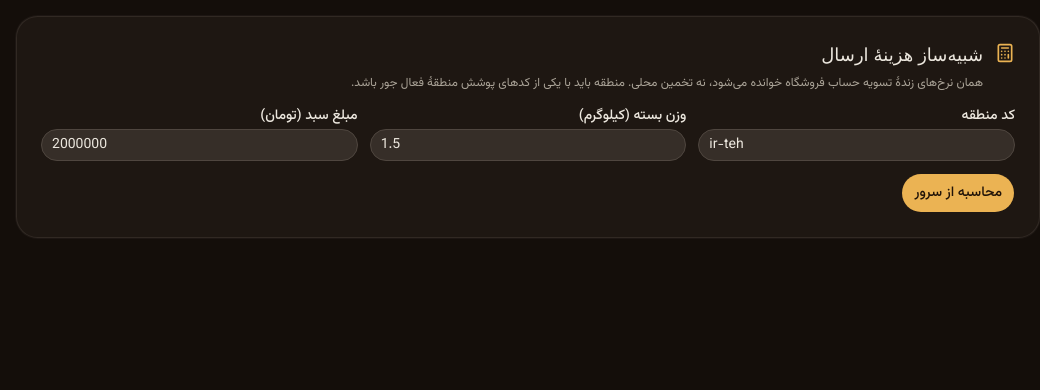
Test: ShippingQuoteSimulator › submits region, weight, and subtotal to the available-methods hook
Replace the text in the number field labelled "وزن بسته (کیلوگرم)" with "2" at {"x": 528, "y": 145}, box 370,129 -> 686,161
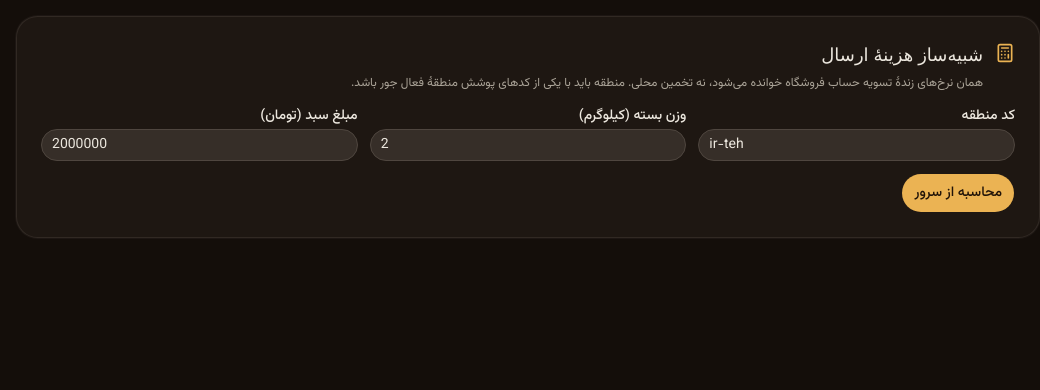
Replace the text in the number field labelled "مبلغ سبد (تومان)" with "3000000" at {"x": 199, "y": 145}, box 41,129 -> 358,161
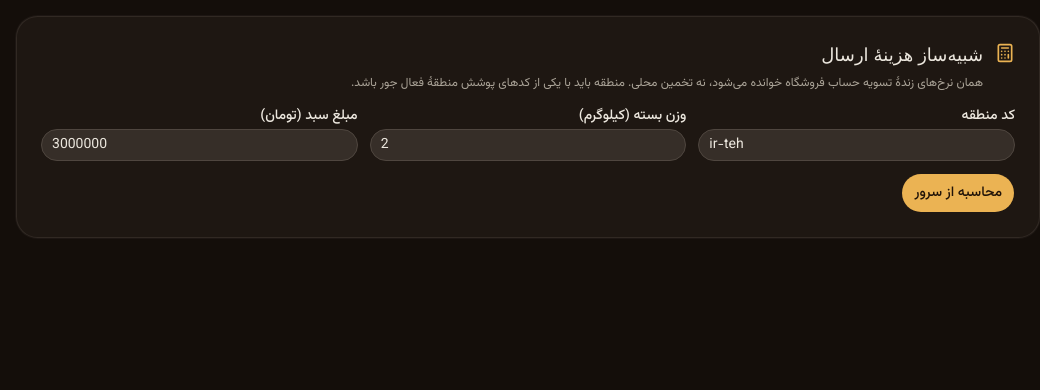
Click the button "محاسبه از سرور".
click(958, 193)  # box 901,173 -> 1015,213
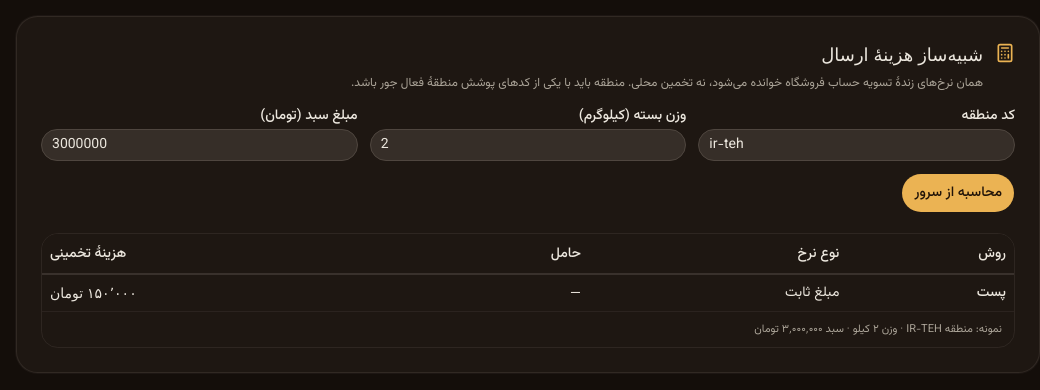
expect the text "پست" is shown: met, box 847,274 -> 1014,310
